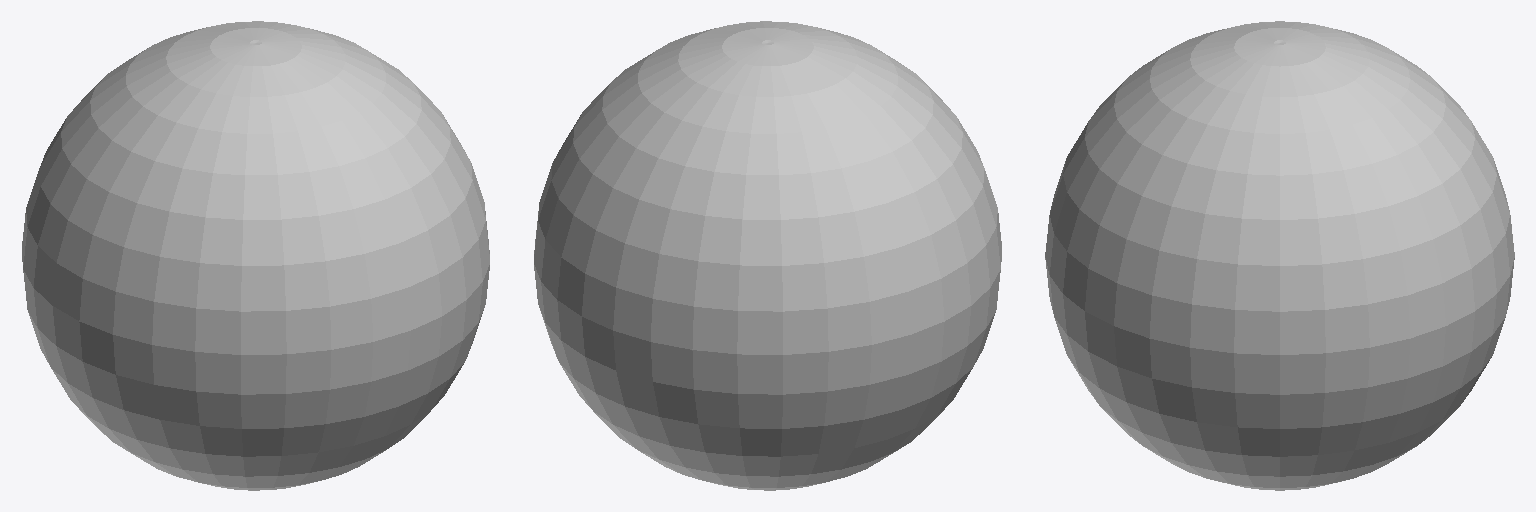
File: medium.obj
3 views of the same model, side by side, from view 1: azimuth 30°, elevation 25°; view 2: azimuth 150°, elevation 25°; view 3: azimuth 270°, elevation 25° (orthographic).
Parts seen in each view (by area): view 1: Sphere; view 2: Sphere; view 3: Sphere.
Part boxes in pixels (bbox=[...]): Sphere: bbox=[22, 21, 489, 490]; Sphere: bbox=[534, 21, 1001, 490]; Sphere: bbox=[1045, 21, 1514, 490].
Size of the model in its own units: 1.4 by 1.41 by 1.4.